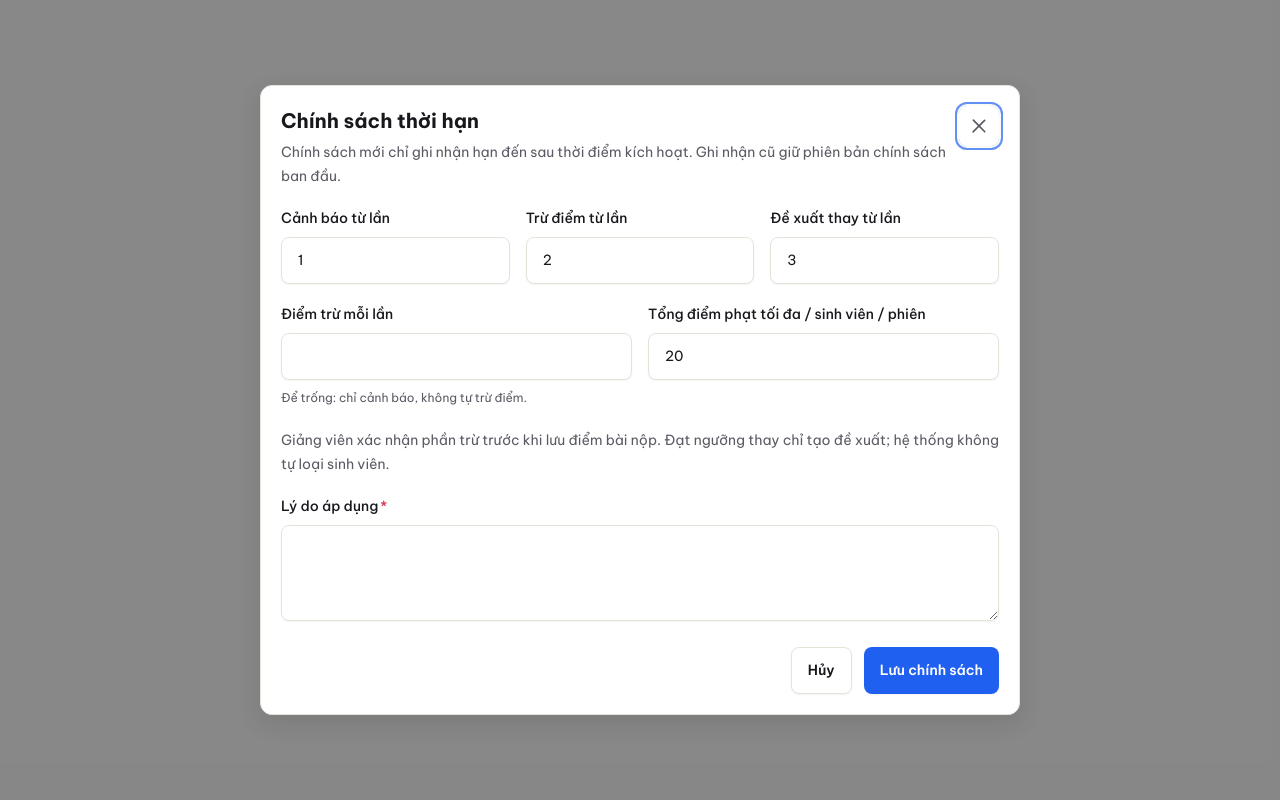
participation evidence › shows an action error and preserves the reason for retry
The width and height of the screenshot is (1280, 800).
Type "Giữ nguyên lý do khi xung đột" into the text box labelled "Lý do áp dụng" at (640, 573), box [281,525,999,621]
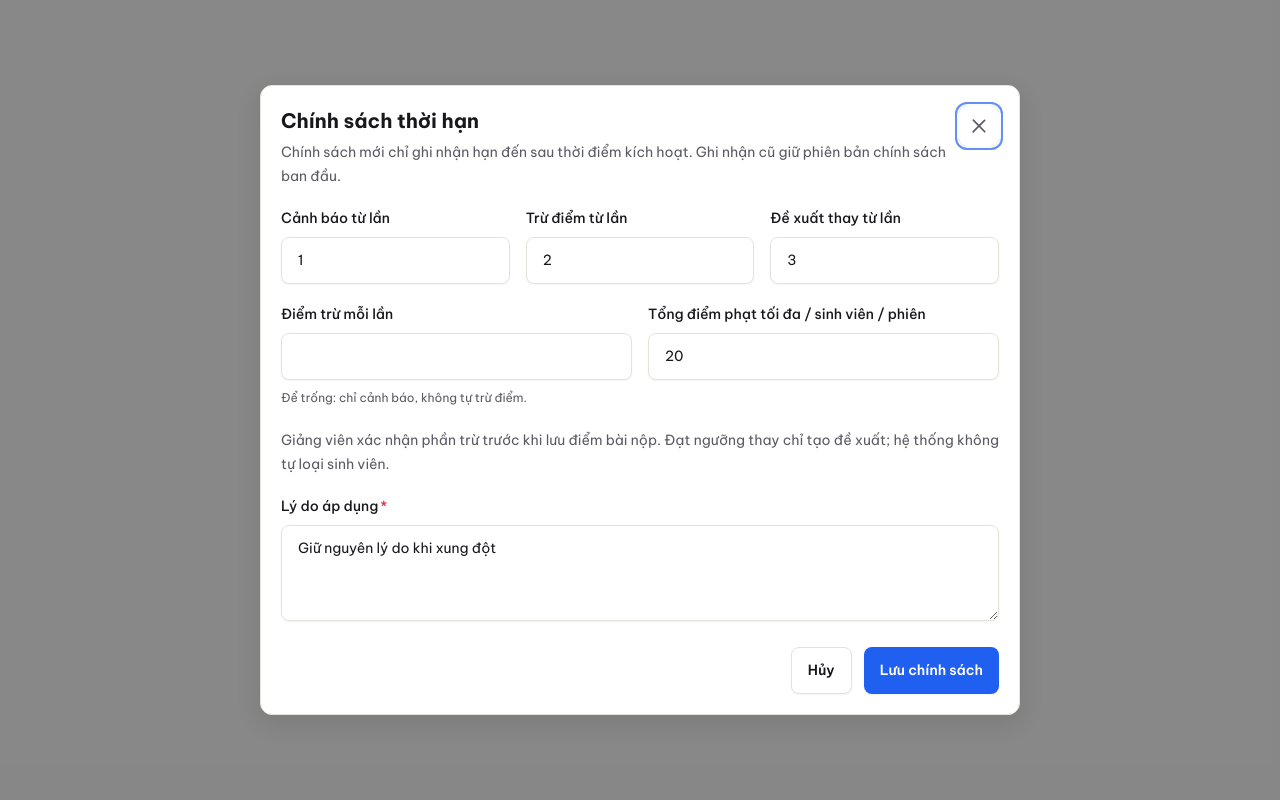
Click the button "Lưu chính sách" at (931, 670), box [864,647,999,694]
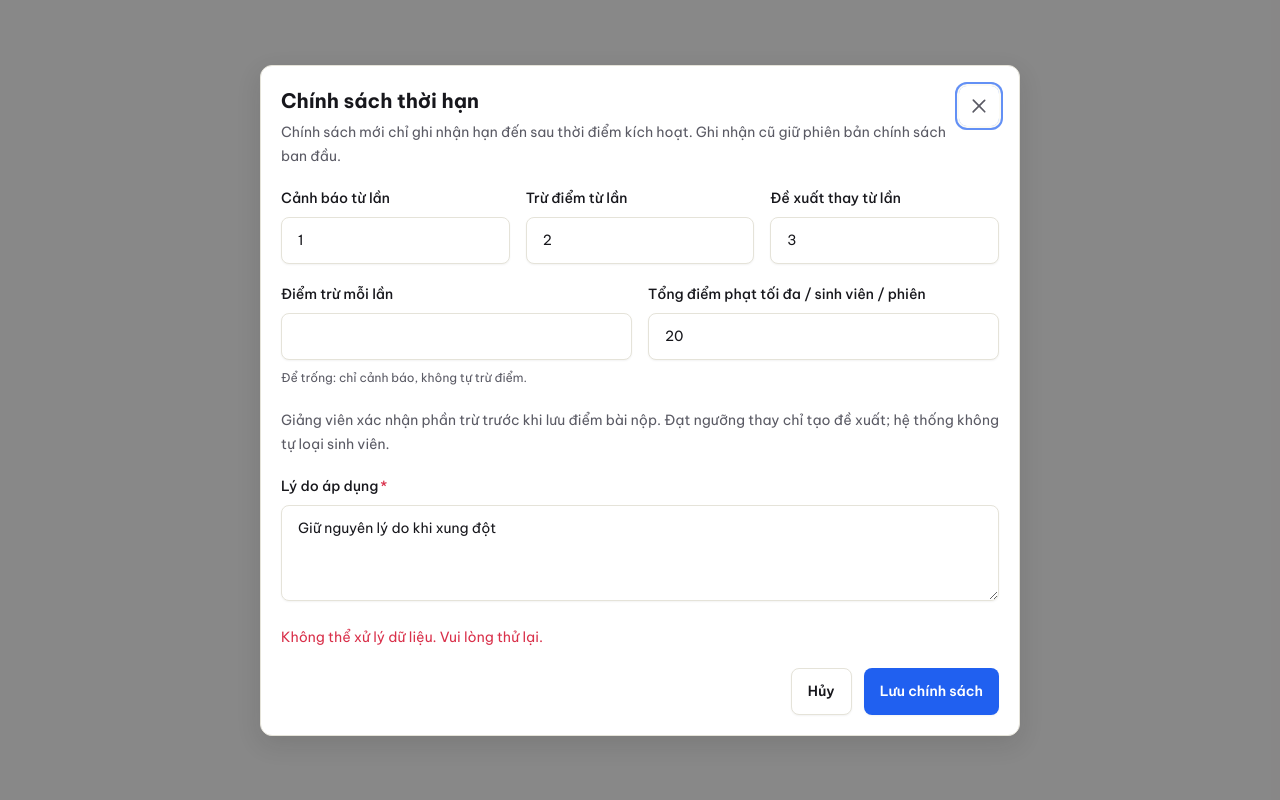
Now the message "Không thể xử lý dữ liệu. Vui lòng thử lại." is shown, box [281,628,543,646]
